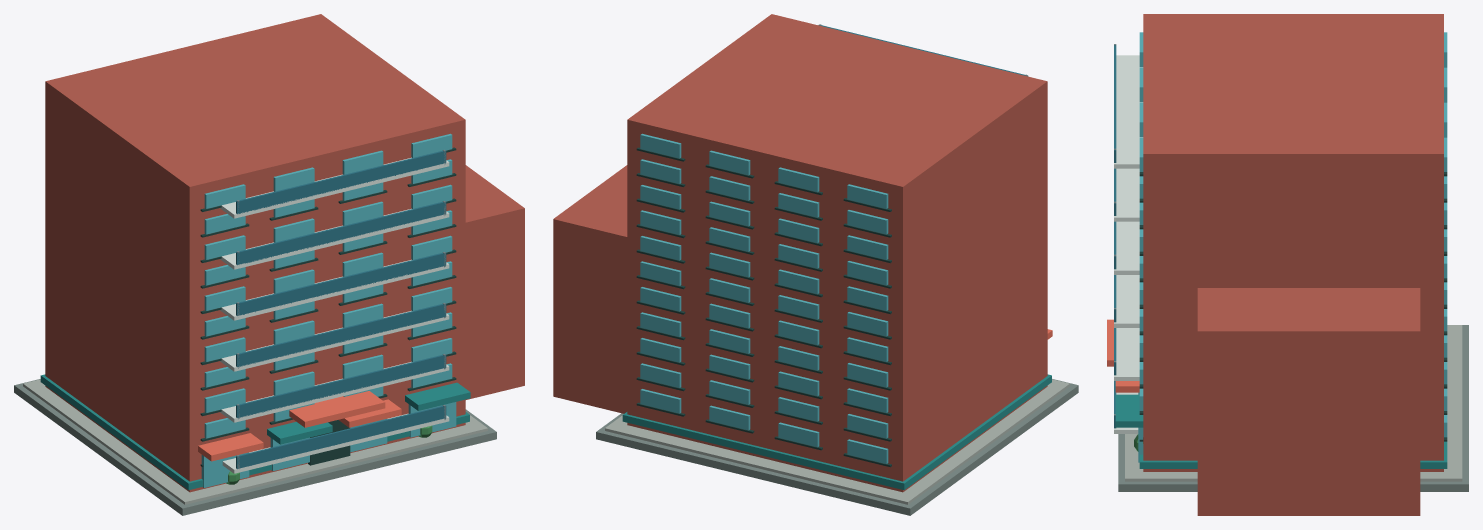
The model's file is mixed_use_lv3.glb.
The picture shows the model from 3 angles, left to right: view 1: azimuth 30°, elevation 25°; view 2: azimuth 150°, elevation 25°; view 3: azimuth 270°, elevation 25°; orthographic projection. The views are drawn at different scales.
Visible parts, largest first — view 1: brick, glass, glassDark, white, concrete, pavement, teal, dark, coral; view 2: brick, glass, dark, concrete, pavement, teal; view 3: brick, white, concrete, glass, pavement, teal, glassDark, coral, dark.
Boxes of the visible parts, x1,y1,x2,y2 form: brick: (45, 14, 524, 492); glass: (201, 133, 456, 487); glassDark: (236, 150, 446, 468); white: (220, 157, 449, 473); concrete: (23, 379, 487, 504); pavement: (14, 379, 496, 515); teal: (40, 374, 470, 490); dark: (200, 147, 456, 467); coral: (198, 391, 401, 461); brick: (553, 14, 1047, 492); glass: (640, 133, 888, 463); dark: (636, 147, 891, 467); concrete: (605, 379, 1069, 504); pavement: (596, 379, 1078, 515); teal: (622, 374, 1051, 490); brick: (1143, 14, 1443, 515); white: (1114, 55, 1142, 433); concrete: (1125, 325, 1462, 481); glass: (1138, 32, 1447, 462); pavement: (1118, 325, 1468, 491); teal: (1115, 394, 1447, 468); glassDark: (1114, 45, 1116, 428); coral: (1107, 319, 1139, 392); dark: (1139, 67, 1447, 441).
Bounding box in the file's own units: 11.87 × 9.4 × 9.39.
